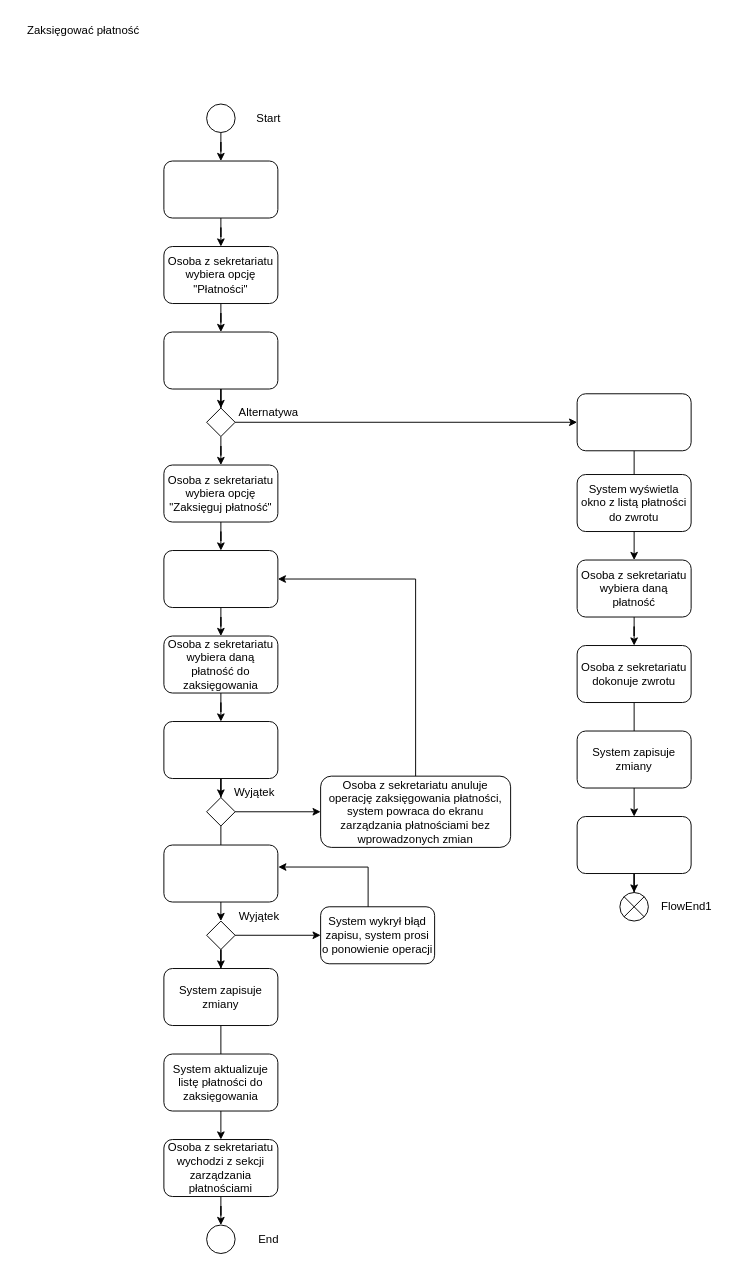
This 740x1270 diagram has some shape labels left out. The box of each missing label's shape, as (x1, y1, x2, y2) in pixels:
Osoba z sekretariatu wybiera opcję "Dokonaj zwrotu": (576, 393, 691, 451)
Osoba z sekretariatu zaksięgowuje płatność: (163, 844, 278, 902)
System wyświetla okno z daną płatnością: (163, 721, 278, 779)
System wyświetla okno z listą niezaksięgowanych płatności: (163, 550, 278, 608)
System wyświetla okno zarządzania płatnościami: (163, 331, 278, 389)
System wyświetla panel administracyjny: (163, 160, 278, 218)
